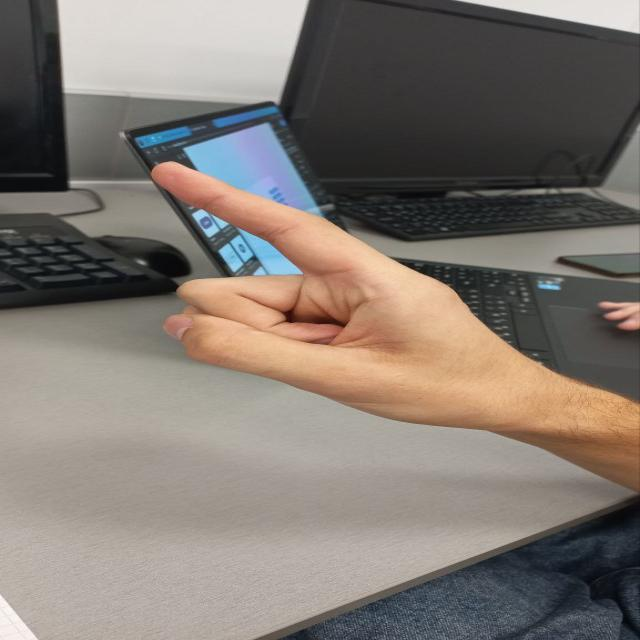z: (78, 135, 544, 427)
